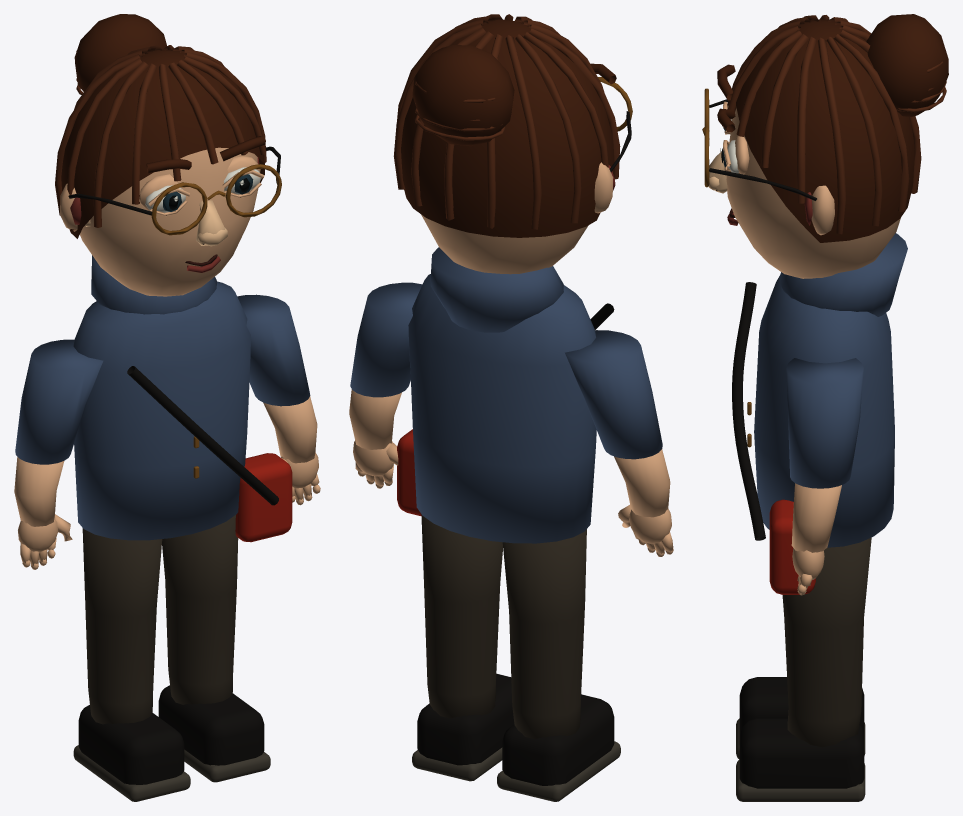
File: patient-34.glb
The picture shows the model from 3 angles, left to right: view 1: azimuth 30°, elevation 25°; view 2: azimuth 150°, elevation 25°; view 3: azimuth 270°, elevation 25°; orthographic projection. The views are drawn at different scales.
Parts seen in each view (by area): view 1: Body, Head, LegL, LegR, ArmL, ArmR; view 2: Body, Head, LegL, LegR, ArmL, ArmR; view 3: Head, Body, LegR, ArmR, LegL.
Boxes of the visible parts, x1,y1,x2,y2 form: Body: (73, 255, 292, 542); Head: (55, 14, 281, 296); LegL: (73, 528, 190, 801); LegR: (158, 515, 270, 782); ArmL: (14, 339, 103, 569); ArmR: (237, 294, 320, 505); Body: (397, 247, 614, 543); Head: (393, 14, 632, 274); LegL: (497, 529, 620, 801); LegR: (412, 514, 514, 781); ArmL: (565, 330, 673, 556); ArmR: (349, 282, 422, 488); Head: (702, 14, 948, 278); Body: (732, 233, 907, 594); LegR: (736, 537, 871, 801); ArmR: (786, 358, 863, 595); LegL: (736, 677, 865, 759).
Bounding box in the file's own units: 0.6142 × 1.4 × 0.4175.
